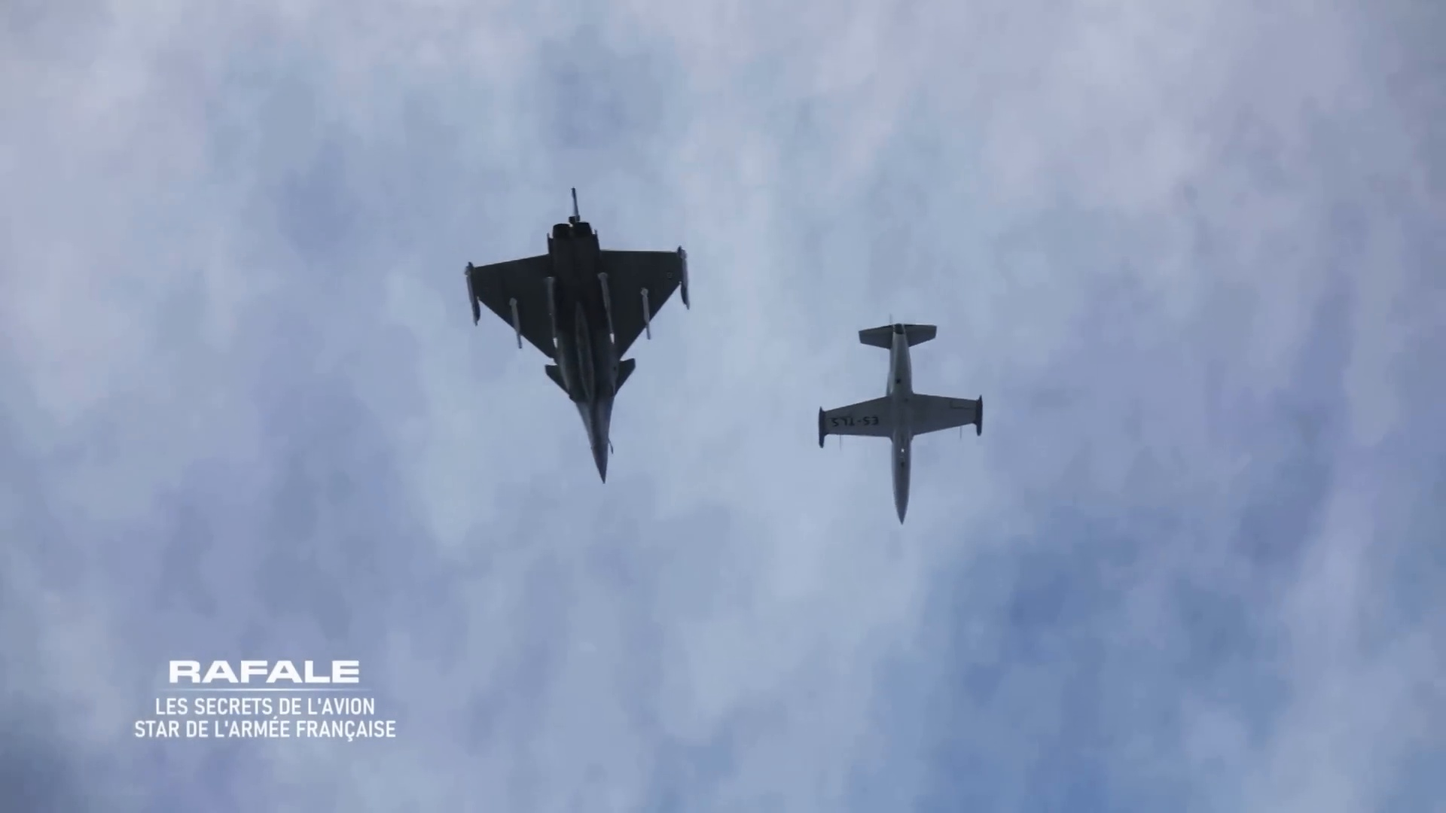Rafale: (460, 182, 699, 490)
